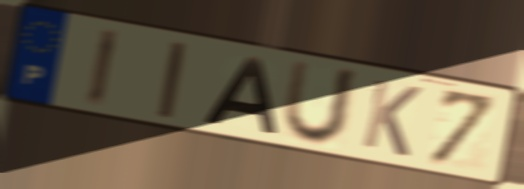7: (430, 86, 502, 170)
A: (199, 53, 280, 136)
I: (83, 25, 123, 110), (154, 39, 189, 122)
K: (358, 75, 425, 161)
U: (278, 57, 363, 149)
